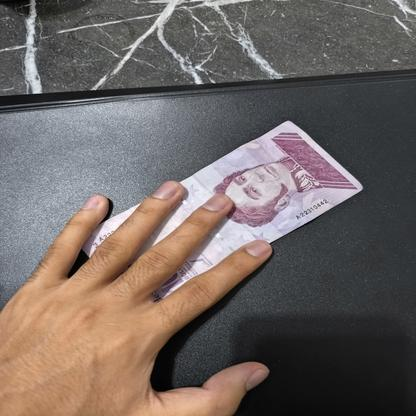one_hundred-front-vef: (80, 120, 364, 304)
